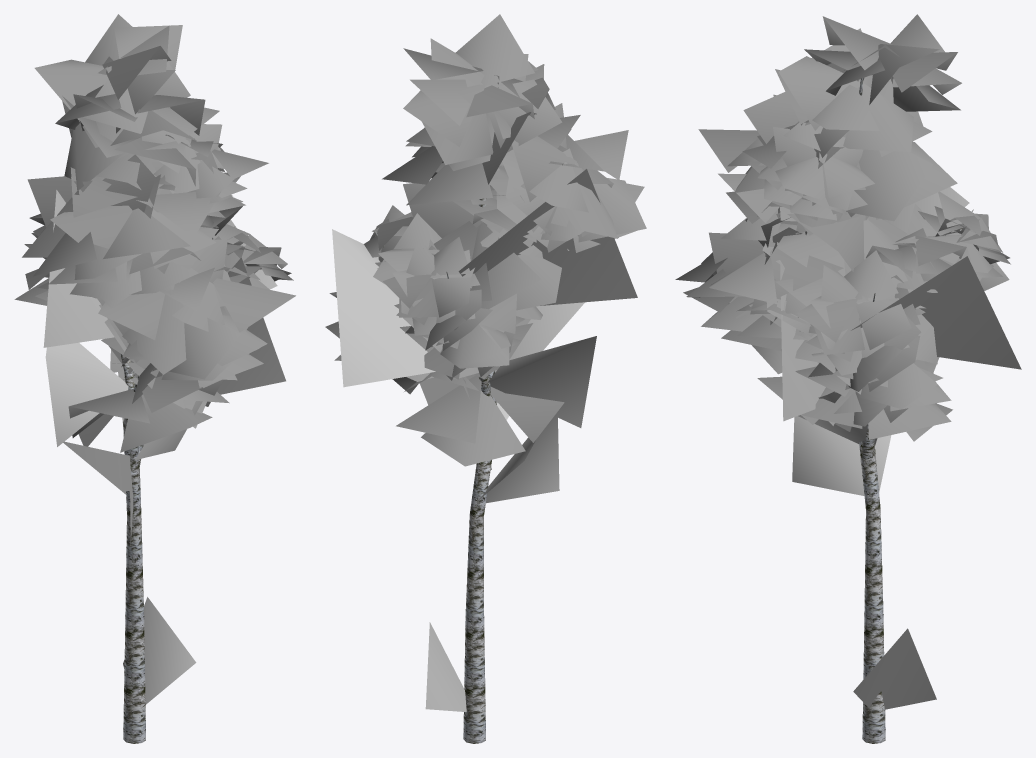
File: birch_13m.obj
3 views of the same model, side by side, from view 1: azimuth 30°, elevation 25°; view 2: azimuth 150°, elevation 25°; view 3: azimuth 270°, elevation 25° (orthographic). The views are drawn at different scales.
Visible parts, largest first — view 1: birch13m; view 2: birch13m; view 3: birch13m.
Boxes of the visible parts, box(x1,y1,x2,y2) form: birch13m: box(14, 14, 295, 743); birch13m: box(325, 14, 646, 743); birch13m: box(675, 14, 1021, 743).
Size of what is drawn, in the model's own units: 533 by 1308 by 568.
